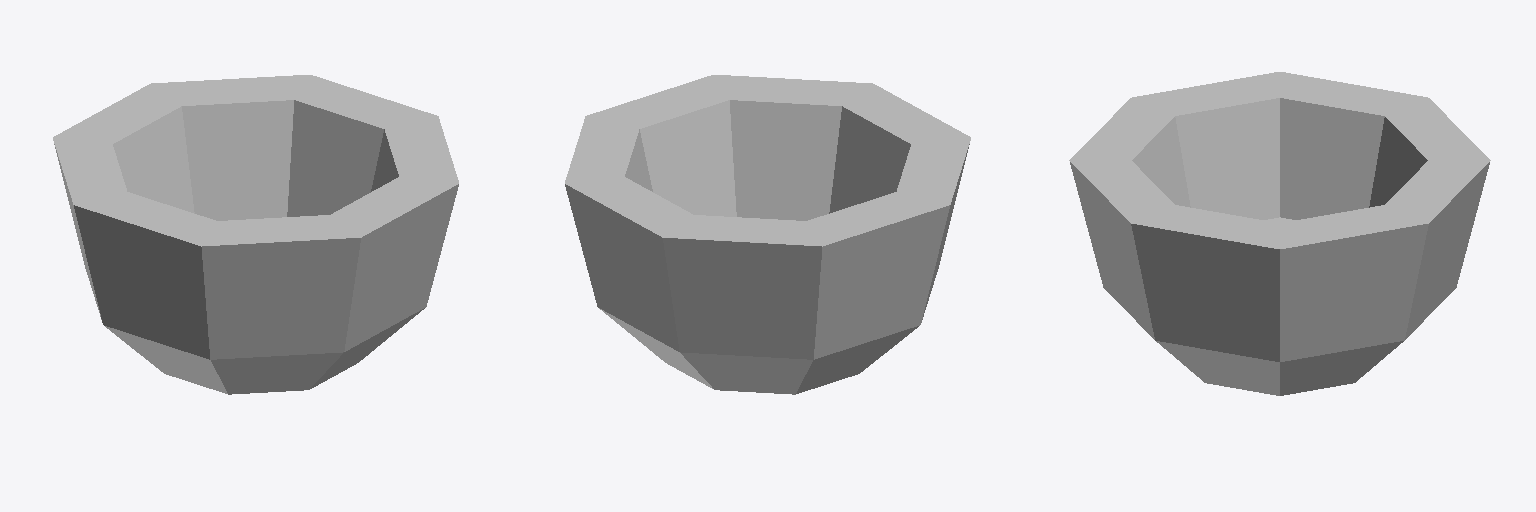
File: coconut-half.obj
3 renders of one model, left to right at view 1: azimuth 30°, elevation 25°; view 2: azimuth 150°, elevation 25°; view 3: azimuth 270°, elevation 25°, orthographic.
Visible parts, largest first — view 1: coconut-half; view 2: coconut-half; view 3: coconut-half.
Part boxes in pixels (left/top/right/bottom): coconut-half: left=53, top=75, right=458, bottom=394; coconut-half: left=565, top=75, right=970, bottom=394; coconut-half: left=1069, top=72, right=1490, bottom=395.
Bounding box in the file's own units: 0.2484 × 0.1242 × 0.2484.